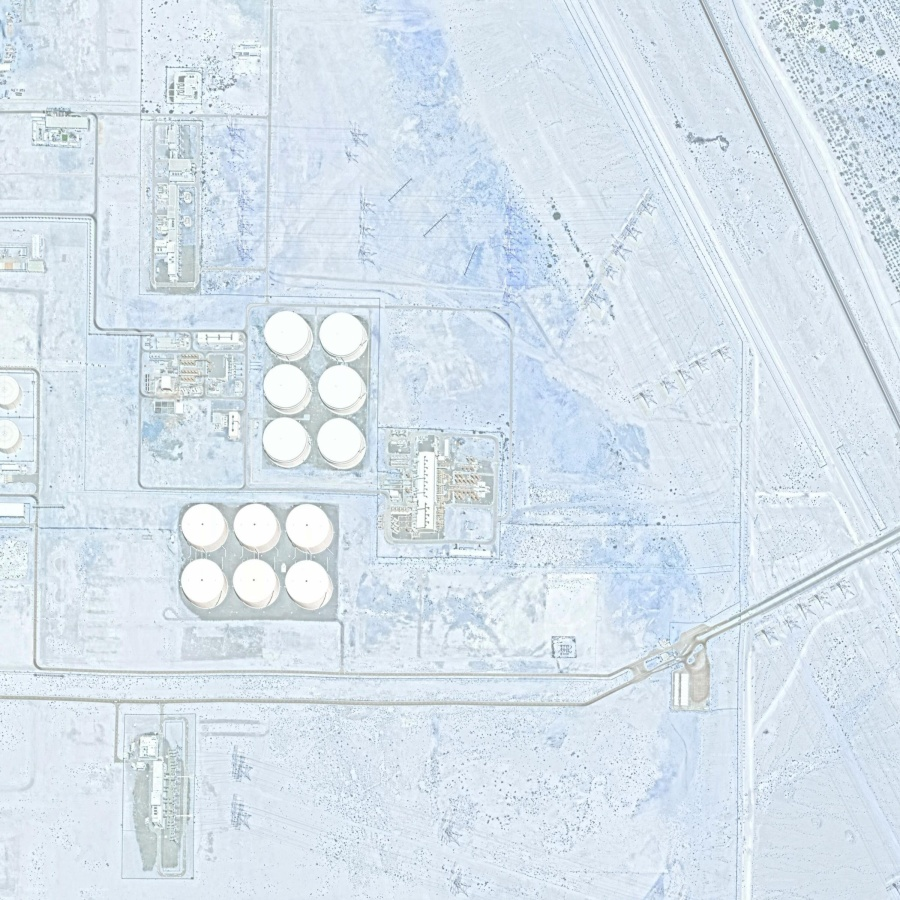PowerPlant: (118, 278, 498, 636)
